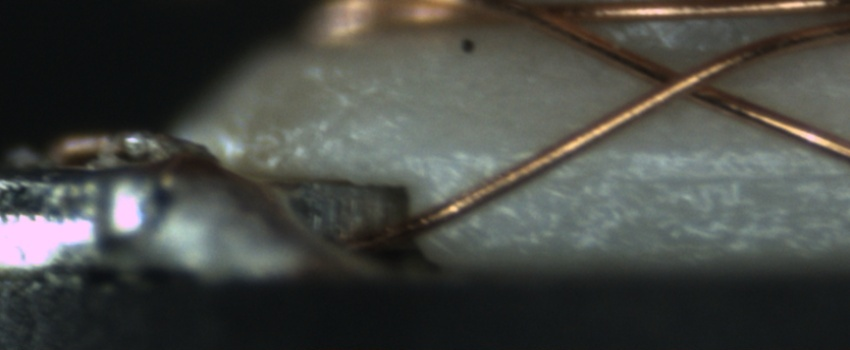CL: (629, 53, 732, 110)
DL: (522, 146, 850, 209)
TE: (46, 125, 124, 165)
